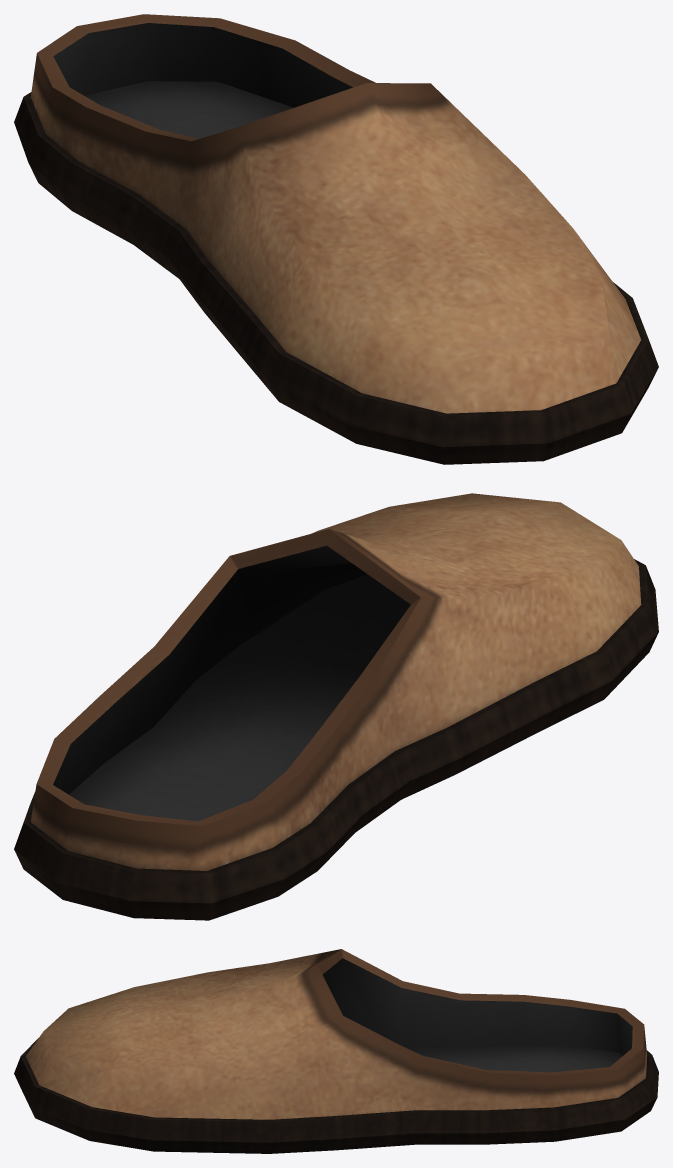
The model's file is M_Home_Garden_Slipper_00.fbx.
3 renders of one model, top to bottom at view 1: azimuth 30°, elevation 25°; view 2: azimuth 150°, elevation 25°; view 3: azimuth 270°, elevation 25°, orthographic. The views are drawn at different scales.
Parts seen in each view (by area): view 1: M_Home_Garden_Slipper_00; view 2: M_Home_Garden_Slipper_00; view 3: M_Home_Garden_Slipper_00.
Boxes of the visible parts, <box> form: M_Home_Garden_Slipper_00: <box>14,14,658,464</box>; M_Home_Garden_Slipper_00: <box>14,493,658,920</box>; M_Home_Garden_Slipper_00: <box>14,949,658,1153</box>.
Bounding box in the file's own units: 13.88 × 7.82 × 32.78.
